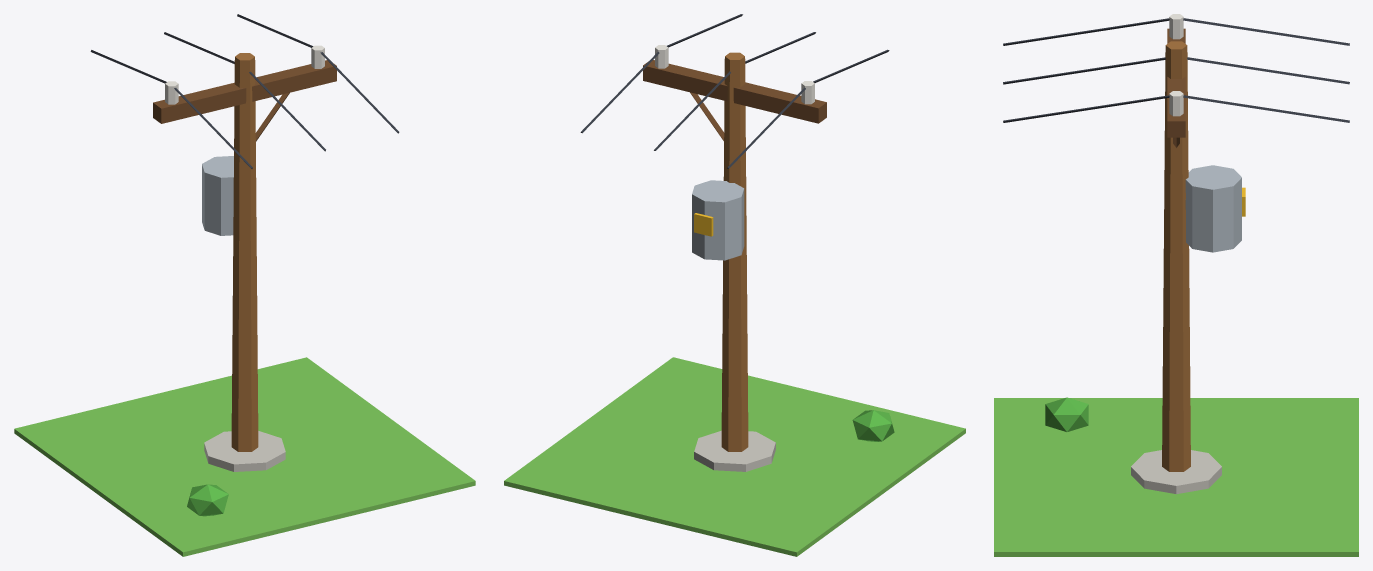
The model's file is power_pole.glb.
3 views of the same model, side by side, from view 1: azimuth 30°, elevation 25°; view 2: azimuth 150°, elevation 25°; view 3: azimuth 270°, elevation 25° (orthographic). The views are drawn at different scales.
Parts seen in each view (by area): view 1: corpo; view 2: corpo; view 3: corpo.
Boxes of the visible parts, bbox=[...] form: corpo: bbox=[14, 14, 475, 556]; corpo: bbox=[504, 14, 965, 556]; corpo: bbox=[994, 14, 1358, 556].
Size of the model in its own units: 2 by 2.63 by 2.
